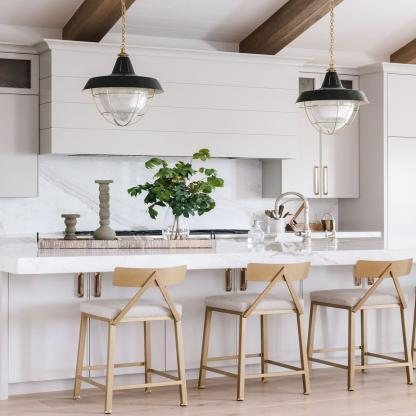chair: (69, 265, 192, 416), (199, 262, 311, 401), (310, 250, 415, 395)
light: (292, 0, 369, 139), (85, 0, 159, 133)
table: (4, 250, 416, 399)
